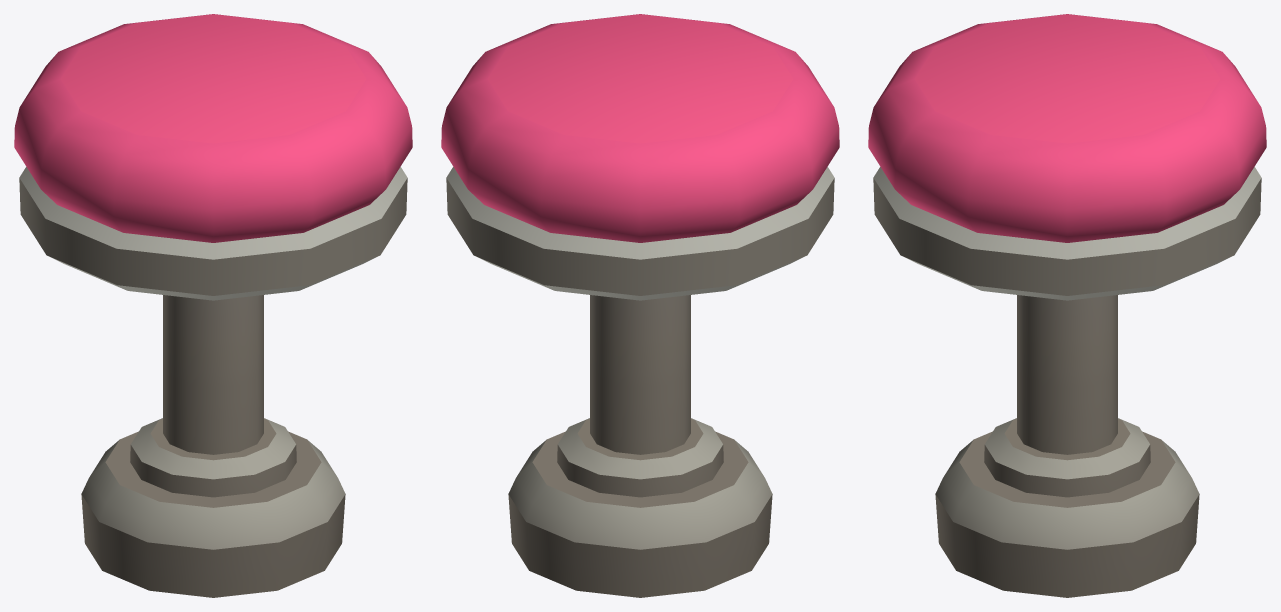
File: Stool_3B_H.glb
The picture shows the model from 3 angles, left to right: view 1: azimuth 30°, elevation 25°; view 2: azimuth 150°, elevation 25°; view 3: azimuth 270°, elevation 25°; orthographic projection.
Visible parts, largest first — view 1: Stool_3B_H; view 2: Stool_3B_H; view 3: Stool_3B_H.
Boxes of the visible parts, box(x1,y1,x2,y2) form: Stool_3B_H: box(14, 14, 412, 597); Stool_3B_H: box(441, 14, 839, 597); Stool_3B_H: box(868, 14, 1266, 597).
Bounding box in the file's own units: 0.4637 × 0.5967 × 0.4637.
Materials: 2 (2 with a texture image).
